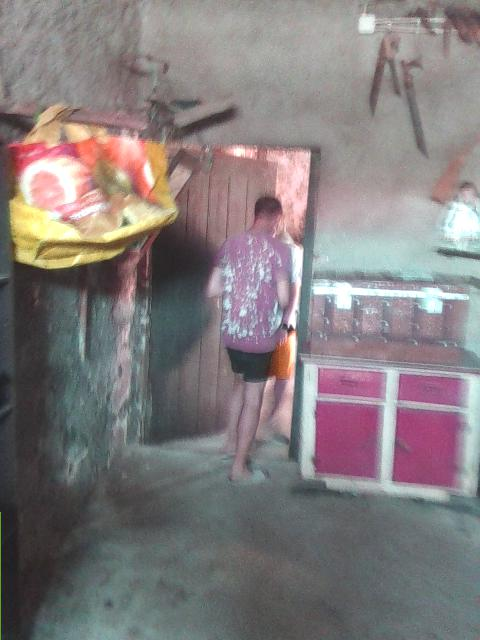semi_door: (127, 140, 318, 469)
